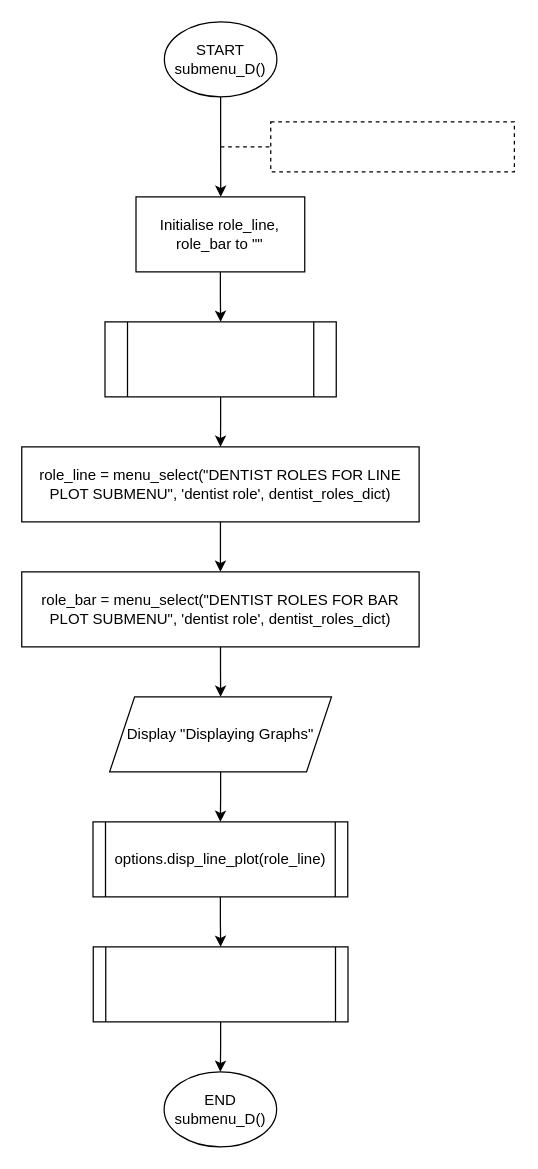
The diagram is 538 pixels wide and 1169 high, and some of its shapes have lost their labels. Here are the shapes that lost their labels. From the top down, the box of each, then its label:
(270, 121, 514, 172): import option_functions as options
(104, 321, 336, 397): disp_header("OPTION D")
(92, 946, 348, 1022): options.disp_bar_plots(role_bar)
